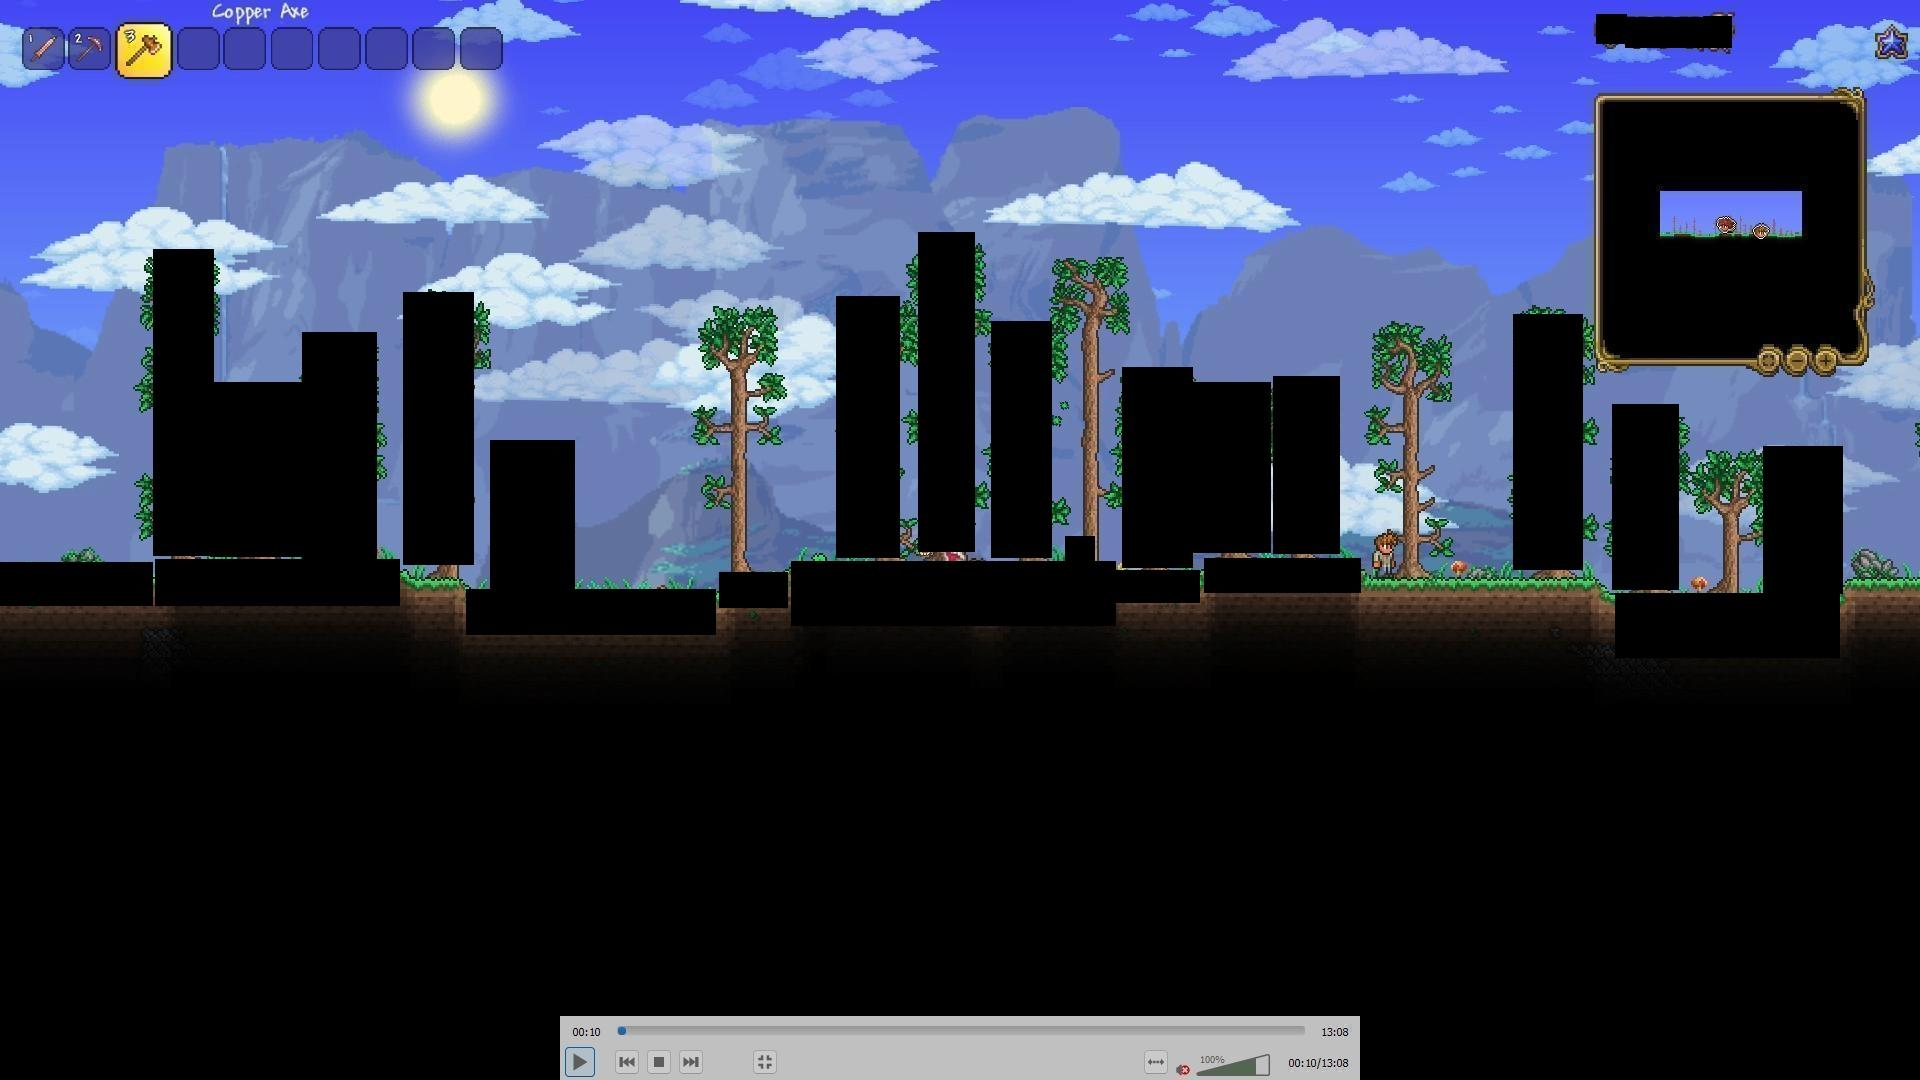dirt: (1360, 576, 1611, 628), (1844, 572, 1919, 632), (404, 568, 467, 605)
tree: (686, 303, 767, 570), (1375, 326, 1429, 566), (1069, 252, 1114, 531), (1691, 458, 1766, 589)
